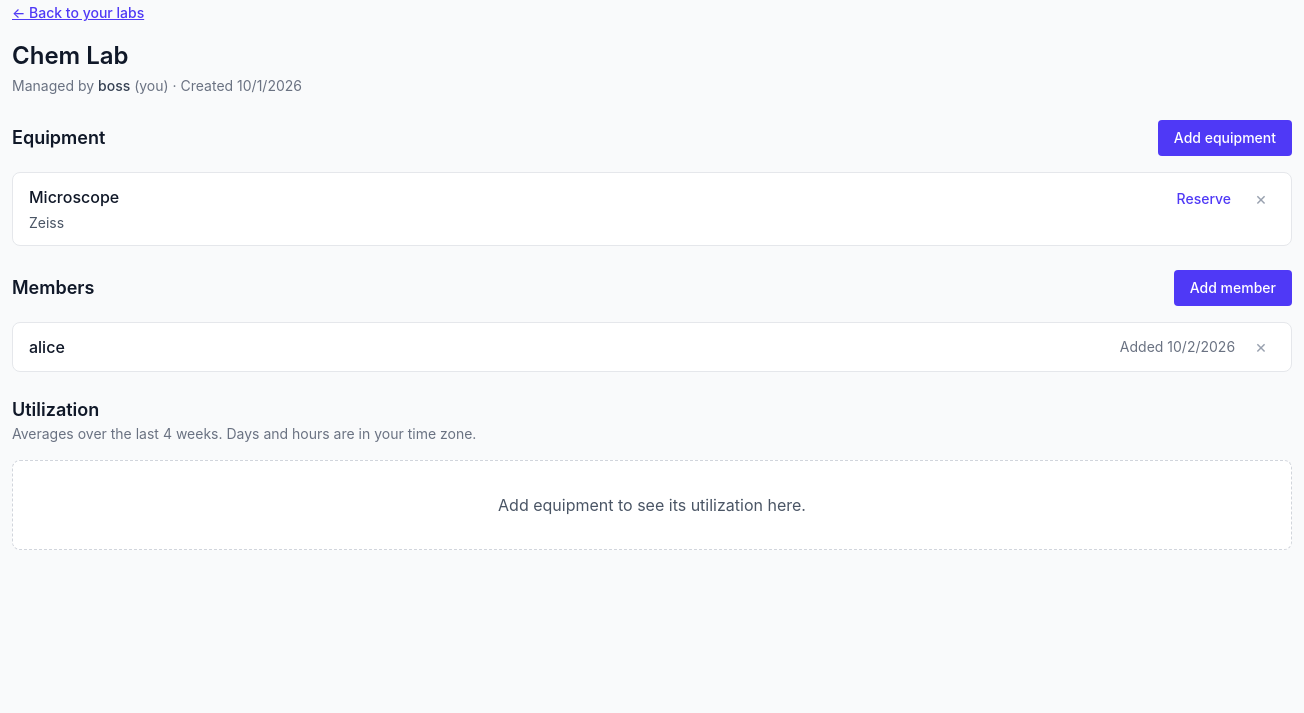
cancelling a reservation › keeps the reservation and shows an error when cancelling fails
What coordinates should you click on to do the following:
click the button "Reserve"
I would click on:
 (1204, 199)
Its box is 1169,185 -> 1239,213.
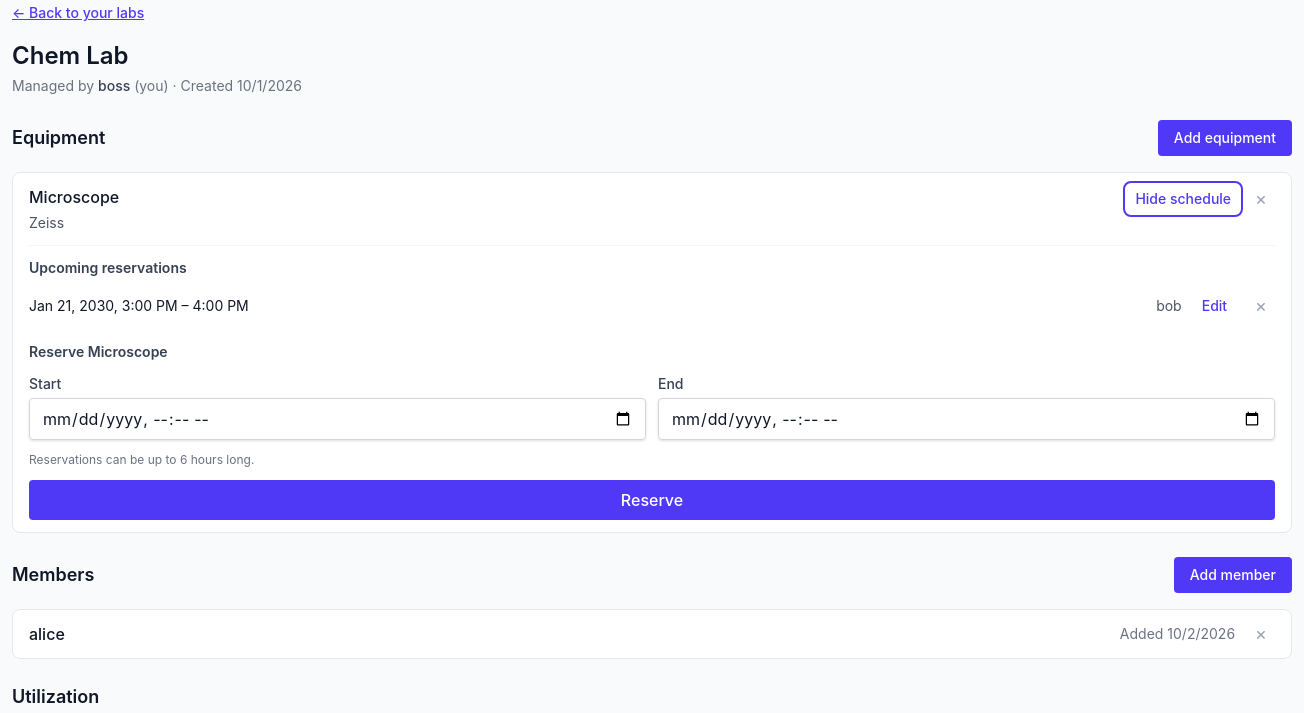
Check: the heading "Upcoming reservations" is shown, box 29,259 -> 187,276
What coordinates should you click on to do the following:
click the button named "Remove bob's reservation"
I would click on:
 (1261, 306)
Its box is 1247,295 -> 1275,317.
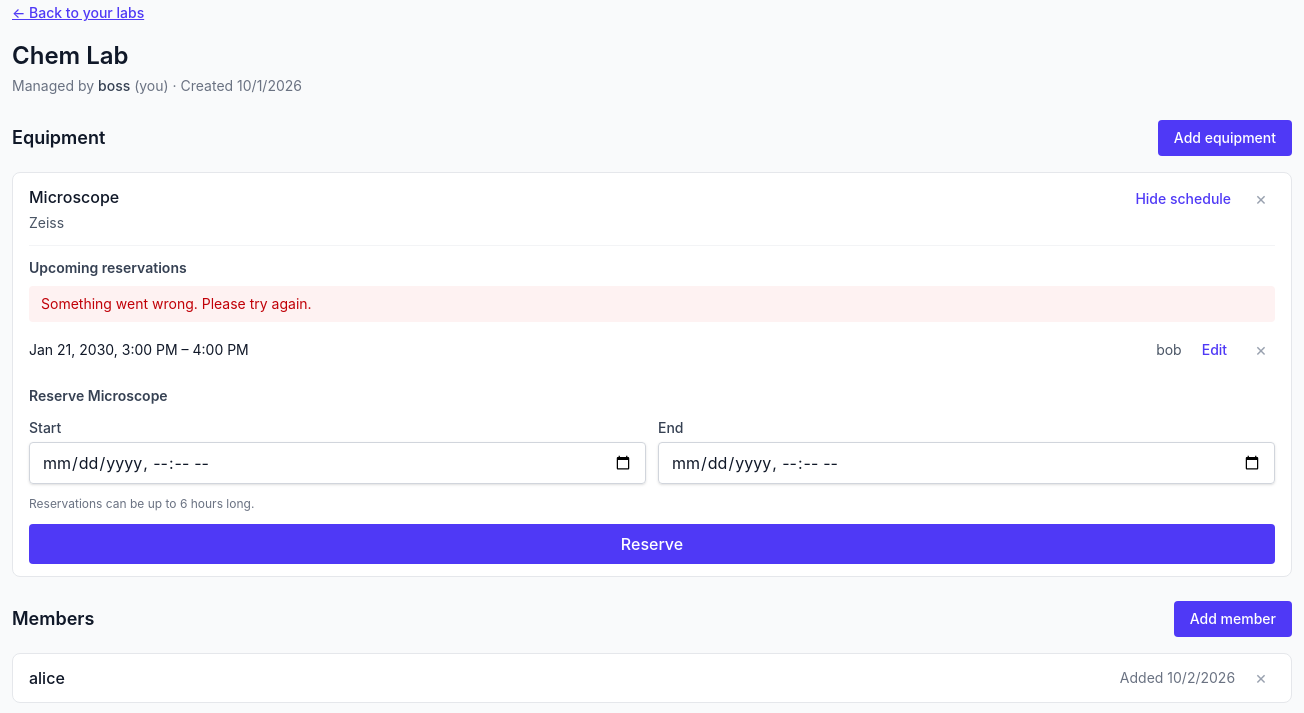
Check: the text "bob" is shown, box 1156,340 -> 1182,360
Check: the message reads "Something went wrong. Please try again.", box 41,295 -> 312,312
